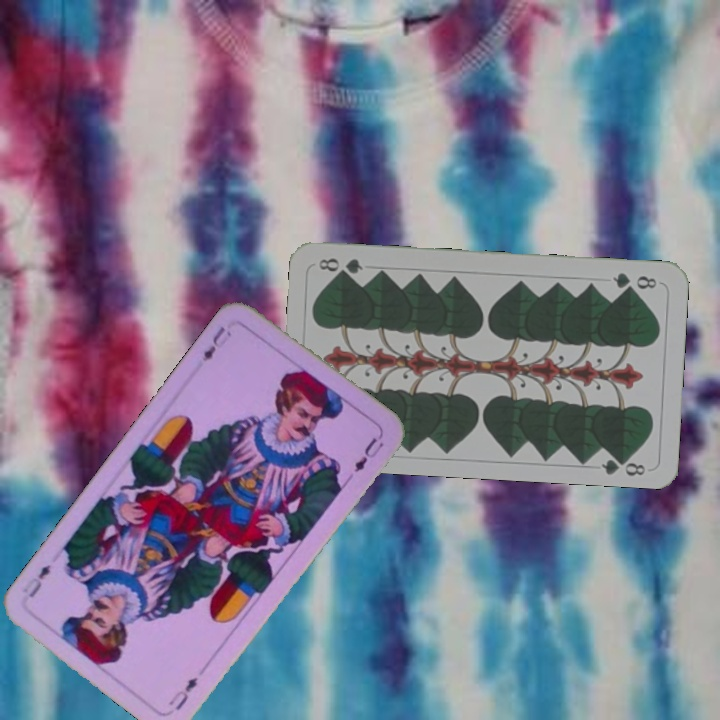EU: (164, 672, 201, 713), (198, 322, 228, 365)
G8: (609, 268, 660, 293)
